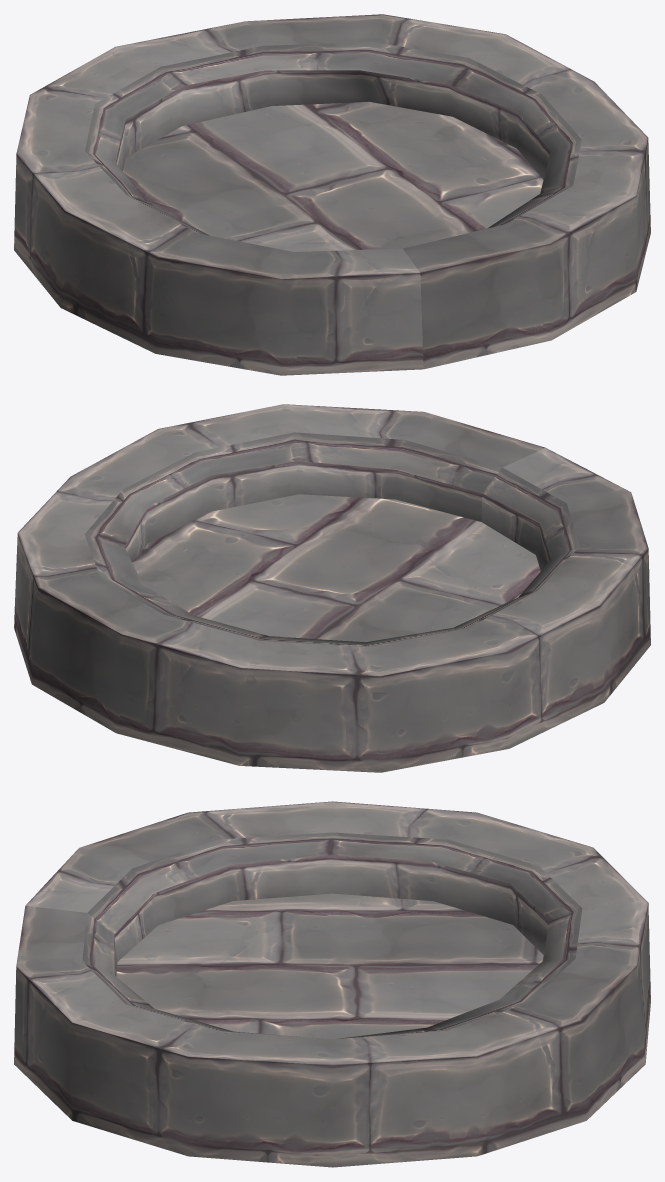
Rendered from SM_PROP_firepit.fbx.
The picture shows the model from 3 angles, top to bottom: view 1: azimuth 30°, elevation 25°; view 2: azimuth 150°, elevation 25°; view 3: azimuth 270°, elevation 25°; orthographic projection. The views are drawn at different scales.
Parts seen in each view (by area): view 1: SM_PROP_firepit; view 2: SM_PROP_firepit; view 3: SM_PROP_firepit.
Part boxes in pixels (<box>): SM_PROP_firepit: <box>14,14,650,375</box>; SM_PROP_firepit: <box>14,404,650,772</box>; SM_PROP_firepit: <box>14,801,650,1167</box>.
Size of the model in its own units: 136 by 23.44 by 136.
